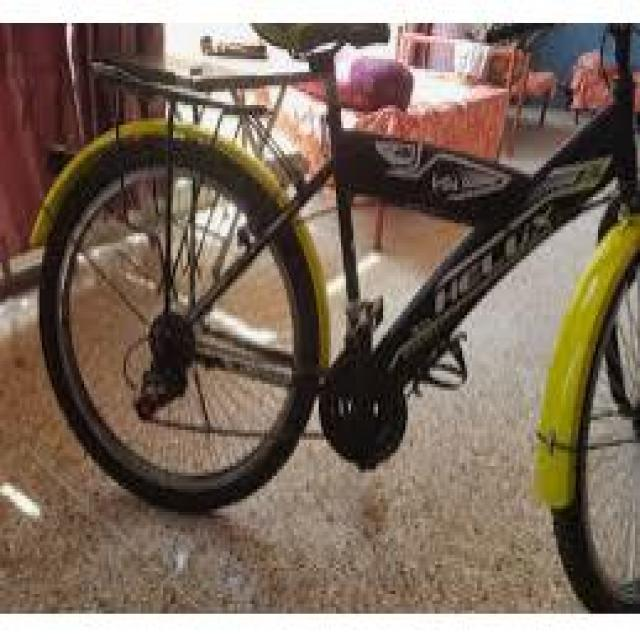bicycle: (35, 37, 640, 549)
